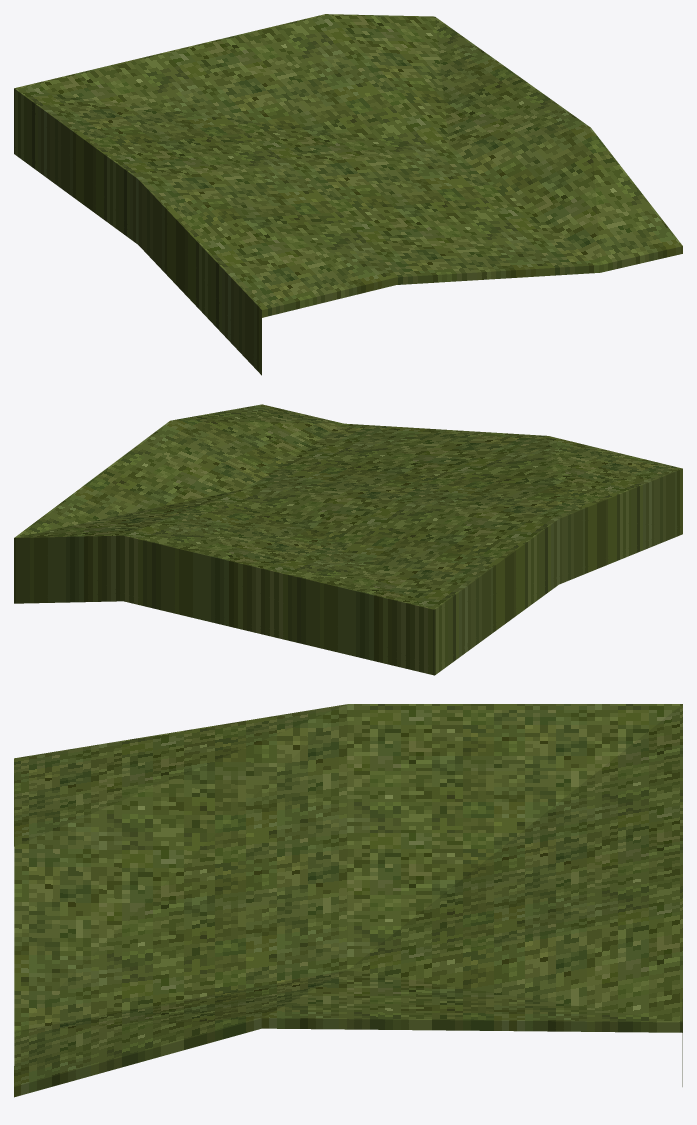
The model's file is lodsd_04_sfw.obj.
The picture shows the model from 3 angles, top to bottom: view 1: azimuth 30°, elevation 25°; view 2: azimuth 150°, elevation 25°; view 3: azimuth 270°, elevation 25°; orthographic projection. The views are drawn at different scales.
Visible parts, largest first — view 1: LODsd_04_sfw; view 2: LODsd_04_sfw; view 3: LODsd_04_sfw.
Part boxes in pixels (x1=…): LODsd_04_sfw: x1=14, y1=14, x2=682, y2=375; LODsd_04_sfw: x1=14, y1=404, x2=682, y2=675; LODsd_04_sfw: x1=14, y1=704, x2=682, y2=1097.
Bounding box in the file's own units: 118 × 28.27 × 120.
Materials: 1 (1 with a texture image).
